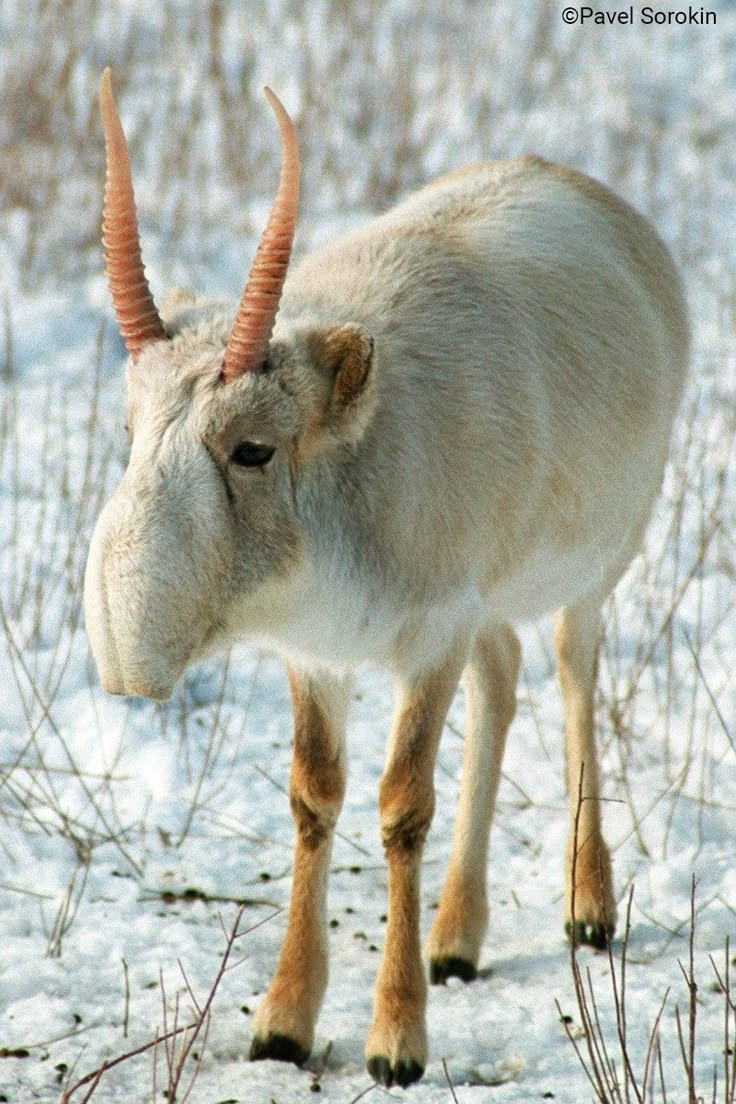saiga: (87, 1, 696, 1052)
